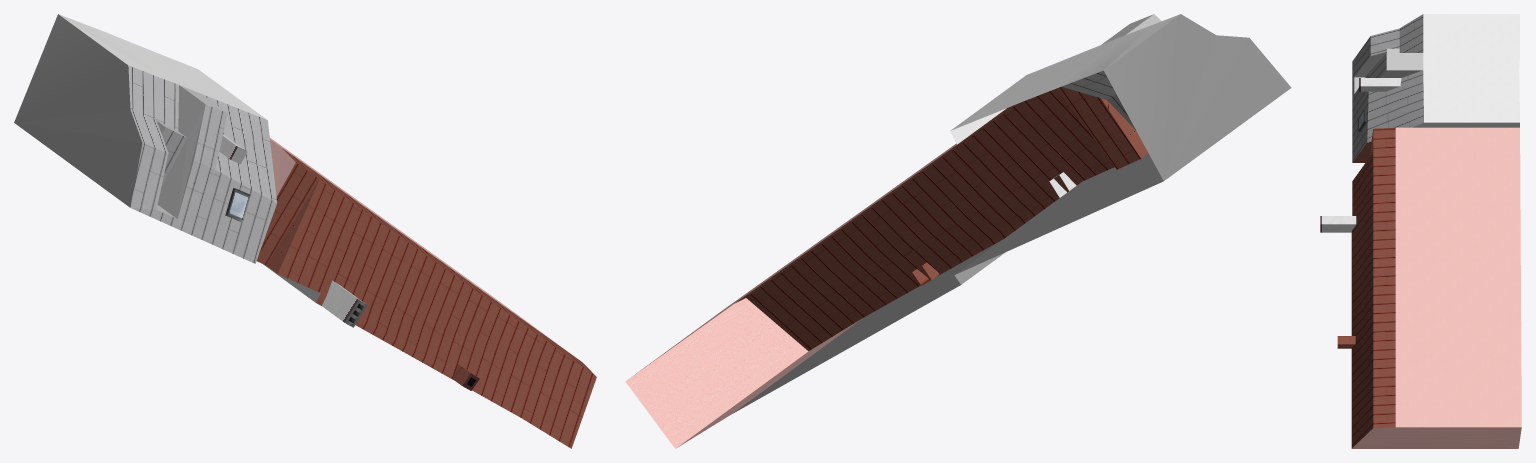
File: Pikk_39_2.obj
The picture shows the model from 3 angles, left to right: view 1: azimuth 30°, elevation 25°; view 2: azimuth 150°, elevation 25°; view 3: azimuth 270°, elevation 25°; orthographic projection. The views are drawn at different scales.
Visible parts, largest first — view 1: Pikk_39_2; view 2: Pikk_39_2; view 3: Pikk_39_2.
Boxes of the visible parts, x1,y1,x2,y2 form: Pikk_39_2: (14,14,596,448); Pikk_39_2: (625,14,1291,448); Pikk_39_2: (1320,14,1521,448).
Bounding box in the file's own units: 25.92 × 22.57 × 13.59.
